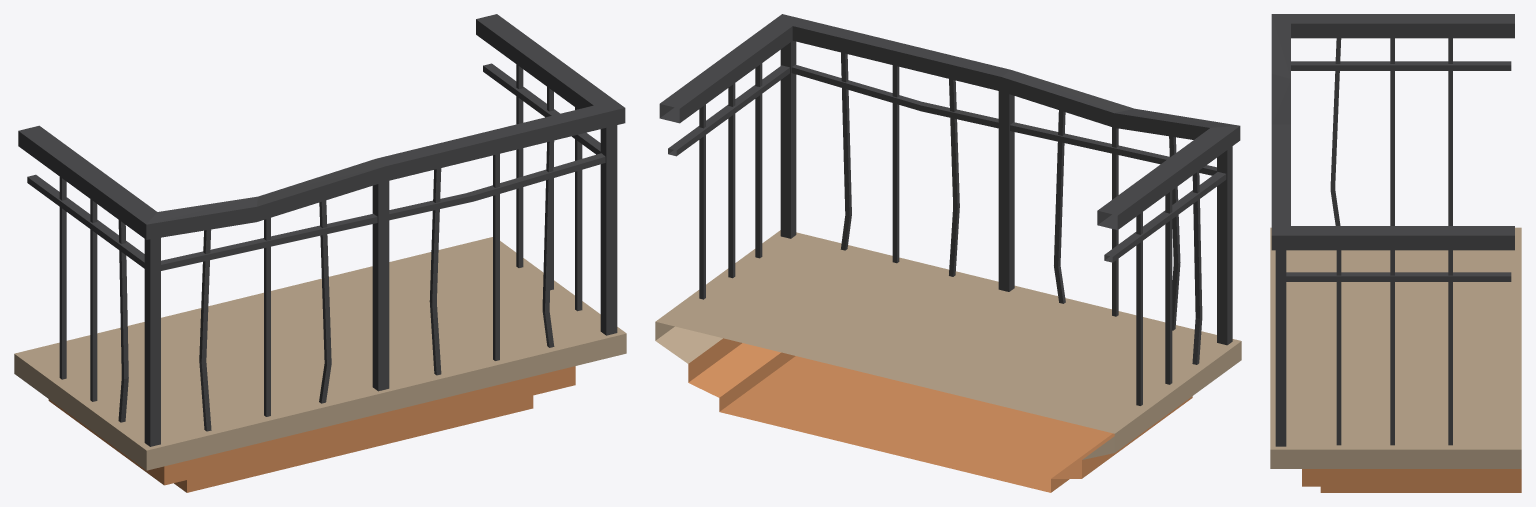
The model's file is SM_Bld_Cuba_Balcony_02.glb.
3 views of the same model, side by side, from view 1: azimuth 30°, elevation 25°; view 2: azimuth 150°, elevation 25°; view 3: azimuth 270°, elevation 25° (orthographic). The views are drawn at different scales.
Visible parts, largest first — view 1: SM_Bld_Cuba_Balcony_02_part00; view 2: SM_Bld_Cuba_Balcony_02_part00; view 3: SM_Bld_Cuba_Balcony_02_part00.
Part boxes in pixels (x1,y1,x2,y2): SM_Bld_Cuba_Balcony_02_part00: (14, 14, 626, 492); SM_Bld_Cuba_Balcony_02_part00: (655, 14, 1241, 492); SM_Bld_Cuba_Balcony_02_part00: (1270, 14, 1521, 492).
Bounding box in the file's own units: 2.18 × 1.31 × 1.04.
1 material, 1 textured.
